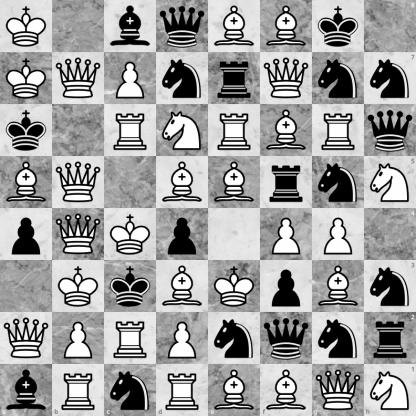B: (260, 364, 312, 416), (209, 364, 260, 416), (1, 157, 52, 208), (157, 157, 208, 208), (157, 261, 208, 312), (209, 1, 260, 52), (209, 157, 260, 208), (261, 1, 312, 52), (261, 105, 312, 156), (313, 261, 364, 312)
K: (1, 1, 52, 52), (1, 53, 52, 104), (53, 261, 104, 312), (105, 209, 156, 260), (209, 261, 260, 312)
N: (364, 156, 416, 209), (364, 364, 416, 416), (157, 105, 208, 156)
P: (53, 313, 104, 364), (105, 53, 156, 104), (157, 313, 208, 364), (261, 209, 312, 260), (313, 209, 364, 260)
Q: (312, 364, 364, 416), (1, 313, 52, 364), (53, 53, 104, 104), (53, 157, 104, 208), (53, 209, 104, 260), (261, 53, 312, 104)
R: (156, 364, 209, 416), (52, 364, 104, 416), (105, 105, 156, 156), (105, 313, 156, 364), (209, 105, 260, 156), (313, 105, 364, 156)
b: (0, 364, 52, 416), (105, 1, 156, 52)
board: (0, 0, 415, 415)
k: (1, 105, 52, 156), (105, 261, 156, 312), (313, 1, 364, 52)
n: (104, 364, 156, 416), (364, 52, 416, 104), (364, 260, 416, 312), (157, 53, 208, 104), (209, 313, 260, 364), (313, 53, 364, 104), (313, 157, 364, 208), (313, 313, 364, 364)
p: (1, 209, 52, 260), (157, 209, 208, 260), (261, 261, 312, 312)
q: (364, 104, 416, 156), (157, 1, 208, 52), (261, 313, 312, 364)
r: (364, 312, 416, 364), (209, 53, 260, 104), (261, 157, 312, 208)
